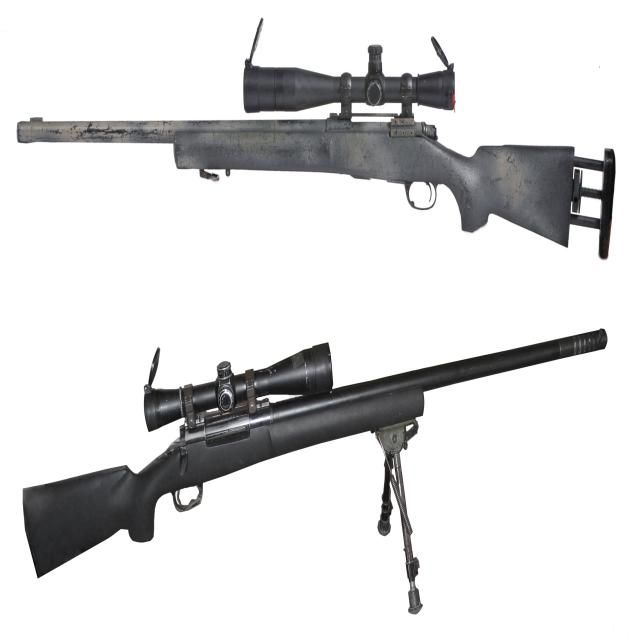Weapon: (23, 330, 607, 613), (18, 45, 614, 257)
